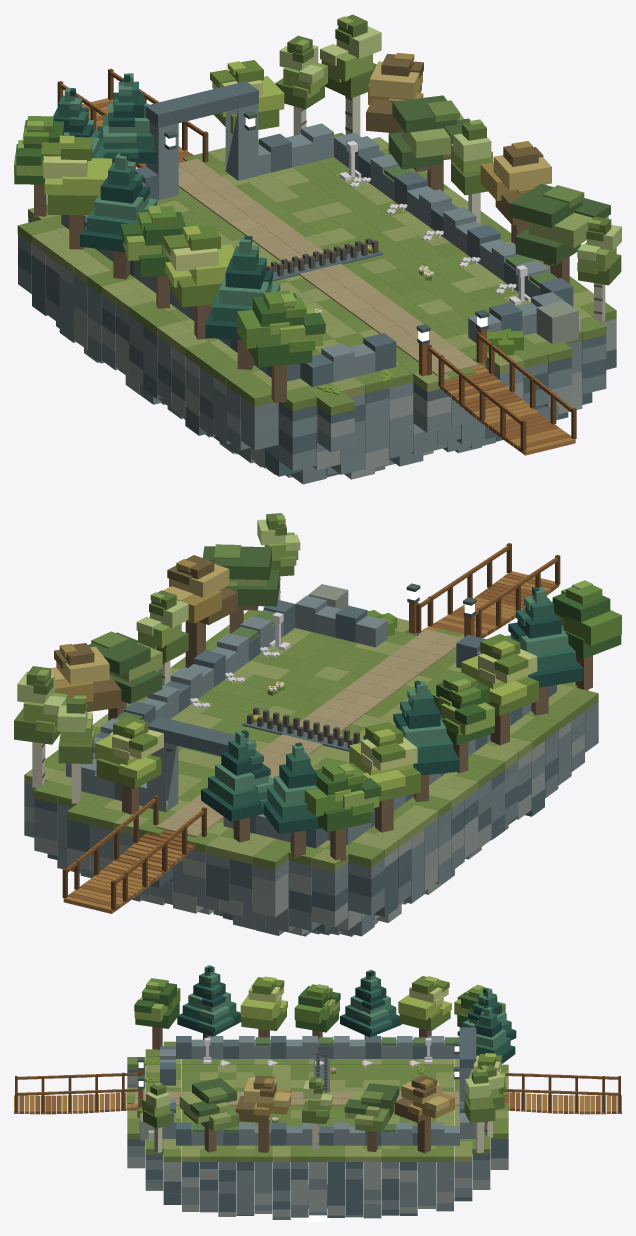
File: room_spikes_purified.glb
3 views of the same model, one above another, from view 1: azimuth 30°, elevation 25°; view 2: azimuth 150°, elevation 25°; view 3: azimuth 270°, elevation 25° (orthographic). The views are drawn at different scales.
Visible parts, largest first — view 1: room_spikes_blocks, tree0_(0, 0).001, tree3_(0, 0).001, tree4_(0, 0).002, tree3_(0, 0).002, tree4_(0, 0).001, tree2_(0, 0).002, tree2_(0, 0).001, tree1_(0, 0).003, tree5_(0, 0).001, tree2_(0, 0).004, tree0_(0, 0).002 (+9 smaller); view 2: room_spikes_blocks, tree2_(0, 0).004, tree2_(0, 0).001, tree4_(0, 0).001, tree4_(0, 0).002, tree0_(0, 0).003, tree5_(0, 0).001, tree0_(0, 0).001, tree4_(0, 0).003, tree2_(0, 0).002, tree2_(0, 0).003, tree0_(0, 0).002 (+8 smaller); view 3: room_spikes_blocks, tree2_(0, 0).001, tree3_(0, 0).001, tree2_(0, 0).002, tree5_(0, 0).002, tree4_(0, 0).002, tree5_(0, 0).001, tree3_(0, 0).002, tree4_(0, 0).001, tree0_(0, 0).001, tree0_(0, 0).002, tree1_(0, 0).003 (+7 smaller).
Boxes of the visible parts, left/top/right/bottom form: room_spikes_blocks: left=17, top=68, right=616, bottom=484; tree0_(0, 0).001: left=237, top=290, right=325, bottom=402; tree3_(0, 0).001: left=510, top=183, right=610, bottom=283; tree4_(0, 0).002: left=41, top=135, right=112, bottom=249; tree3_(0, 0).002: left=388, top=95, right=470, bottom=191; tree4_(0, 0).001: left=163, top=225, right=234, bottom=339; tree2_(0, 0).002: left=80, top=152, right=157, bottom=279; tree2_(0, 0).001: left=205, top=235, right=280, bottom=369; tree1_(0, 0).003: left=320, top=14, right=381, bottom=135; tree5_(0, 0).001: left=480, top=141, right=551, bottom=244; tree2_(0, 0).004: left=97, top=73, right=157, bottom=163; tree0_(0, 0).002: left=120, top=205, right=196, bottom=308; room_spikes_blocks: left=24, top=543, right=598, bottom=936; tree2_(0, 0).004: left=201, top=730, right=273, bottom=842; tree2_(0, 0).001: left=505, top=587, right=583, bottom=715; tree4_(0, 0).001: left=461, top=634, right=538, bottom=745; tree4_(0, 0).002: left=348, top=721, right=420, bottom=832; tree0_(0, 0).003: left=304, top=761, right=381, bottom=861; tree5_(0, 0).001: left=163, top=555, right=237, bottom=667; tree0_(0, 0).001: left=552, top=580, right=621, bottom=690; tree4_(0, 0).003: left=95, top=716, right=163, bottom=814; tree2_(0, 0).002: left=393, top=680, right=459, bottom=801; tree2_(0, 0).003: left=263, top=742, right=321, bottom=858; tree0_(0, 0).002: left=430, top=673, right=494, bottom=773; room_spikes_blocks: left=14, top=1027, right=621, bottom=1221; tree2_(0, 0).001: left=177, top=965, right=241, bottom=1039; tree3_(0, 0).001: left=179, top=1078, right=239, bottom=1152; tree2_(0, 0).002: left=340, top=970, right=401, bottom=1039; tree5_(0, 0).002: left=394, top=1075, right=454, bottom=1153; tree4_(0, 0).002: left=398, top=976, right=451, bottom=1037; tree5_(0, 0).001: left=235, top=1075, right=291, bottom=1152; tree3_(0, 0).002: left=344, top=1083, right=399, bottom=1151; tree4_(0, 0).001: left=240, top=976, right=287, bottom=1037; tree0_(0, 0).001: left=134, top=978, right=180, bottom=1049; tree0_(0, 0).002: left=294, top=984, right=340, bottom=1039; tree1_(0, 0).003: left=464, top=1069, right=495, bottom=1153.
Size of the model in its own units: 19.16 by 14.04 by 38.5.
